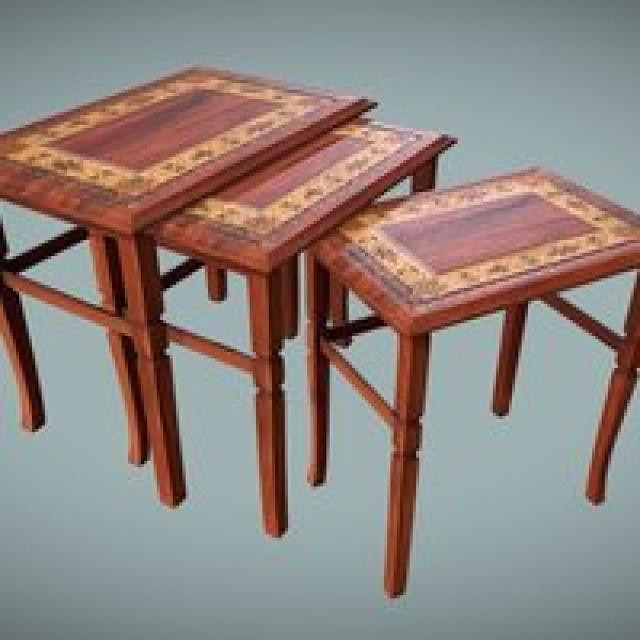table: (0, 62, 376, 507), (112, 102, 458, 536), (304, 162, 640, 596)
